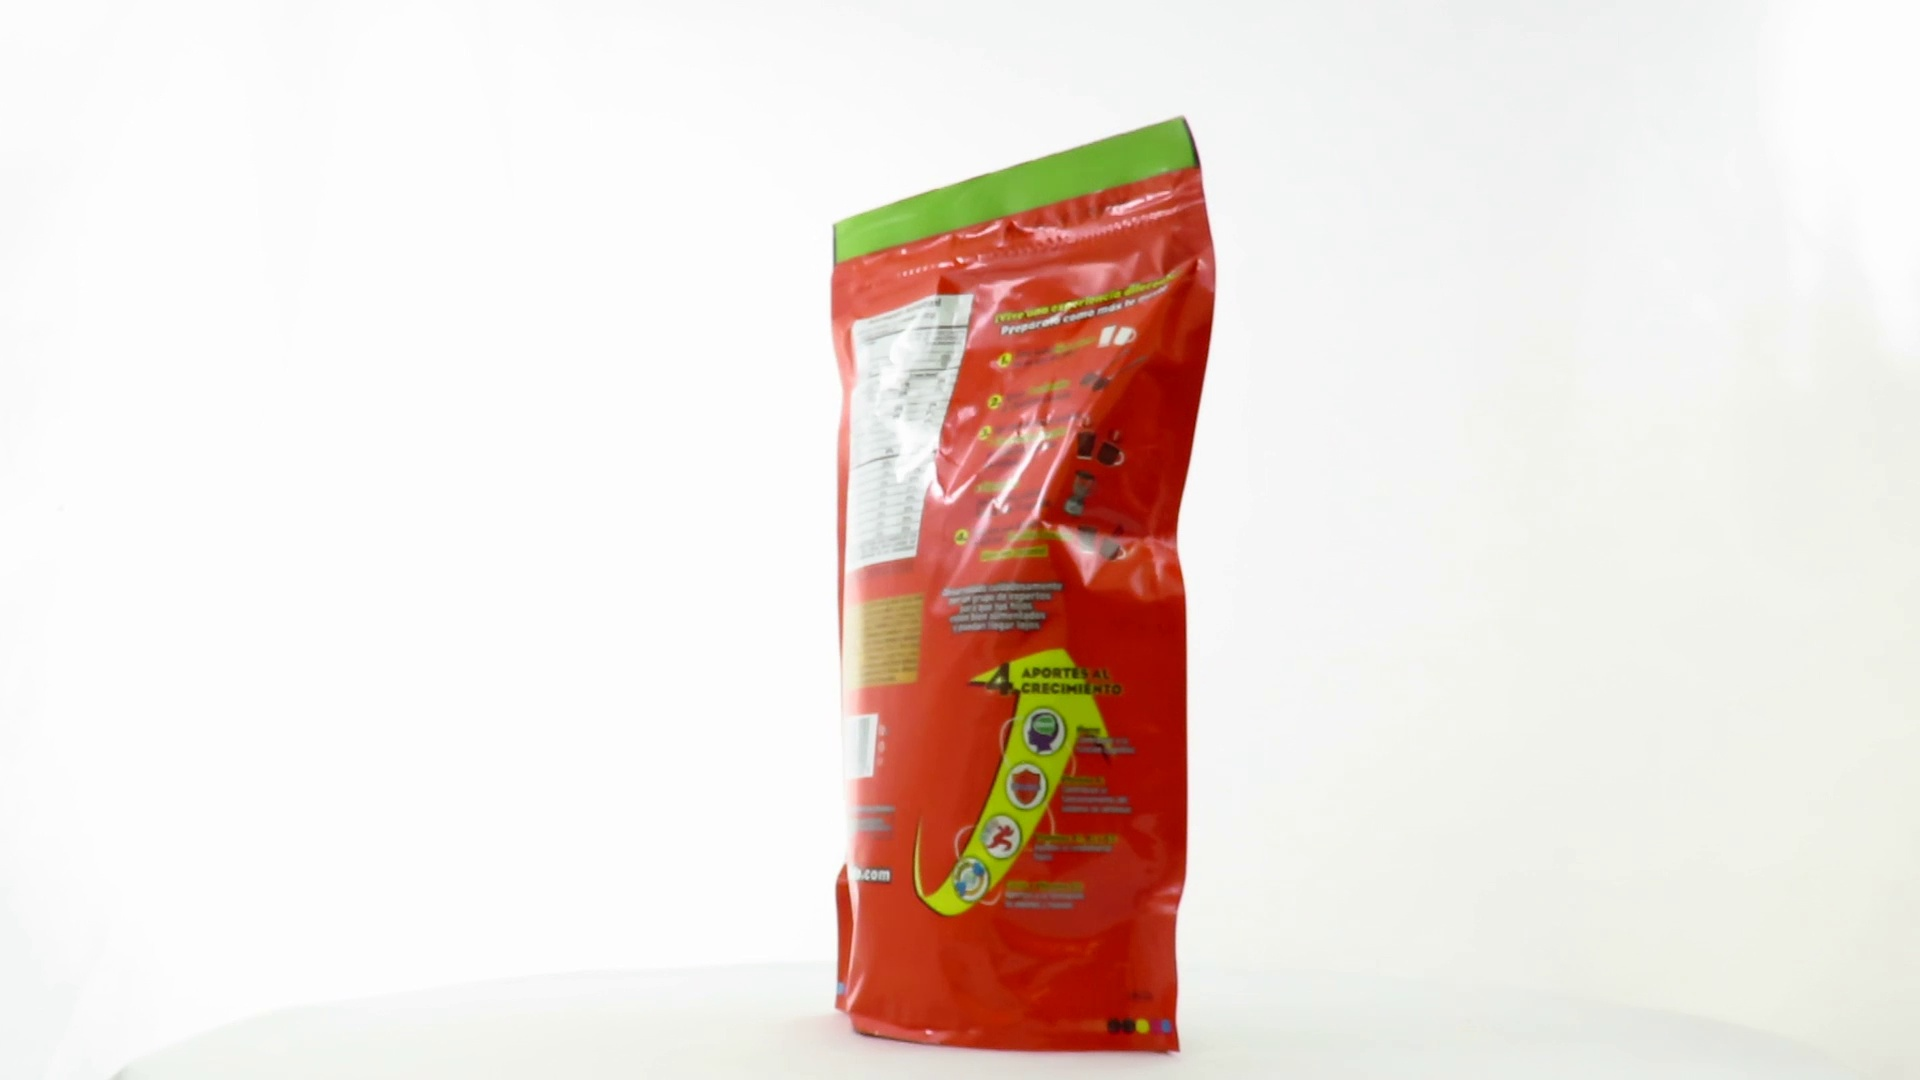COL0170102DYP50000: (825, 109, 1222, 1062)
